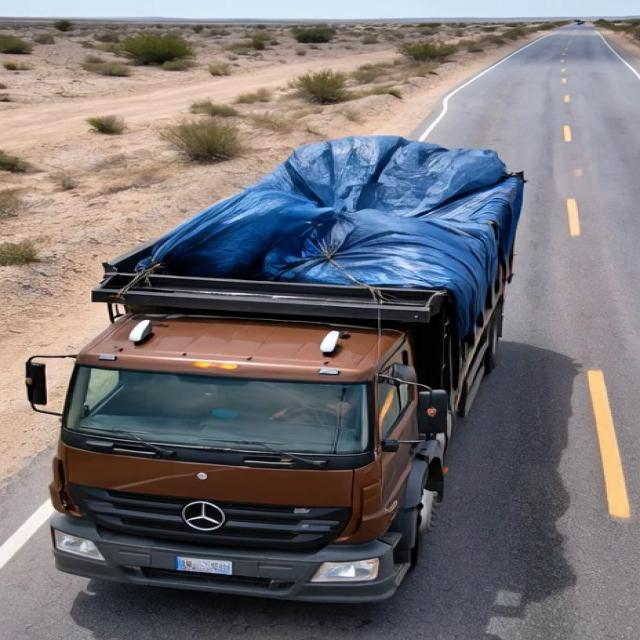Box: (84, 136, 530, 321)
Truck: (23, 118, 569, 596)
